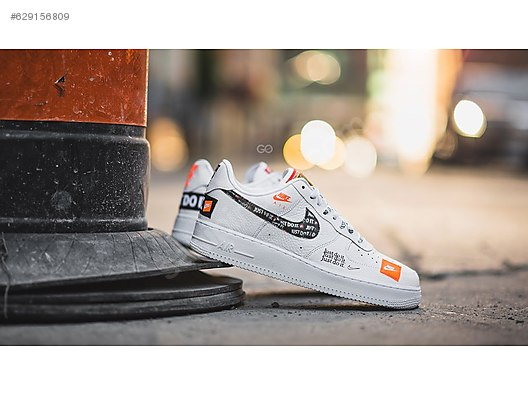nike: (227, 189, 320, 239)
